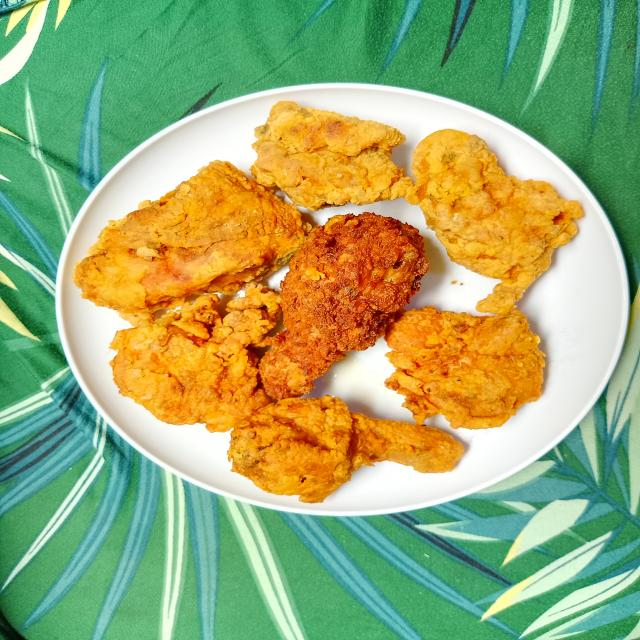Chicken -Fried Chicken-: (78, 156, 291, 318), (414, 128, 578, 301), (266, 216, 420, 398), (231, 397, 466, 504), (110, 282, 274, 432), (381, 303, 549, 433), (250, 92, 412, 209)
